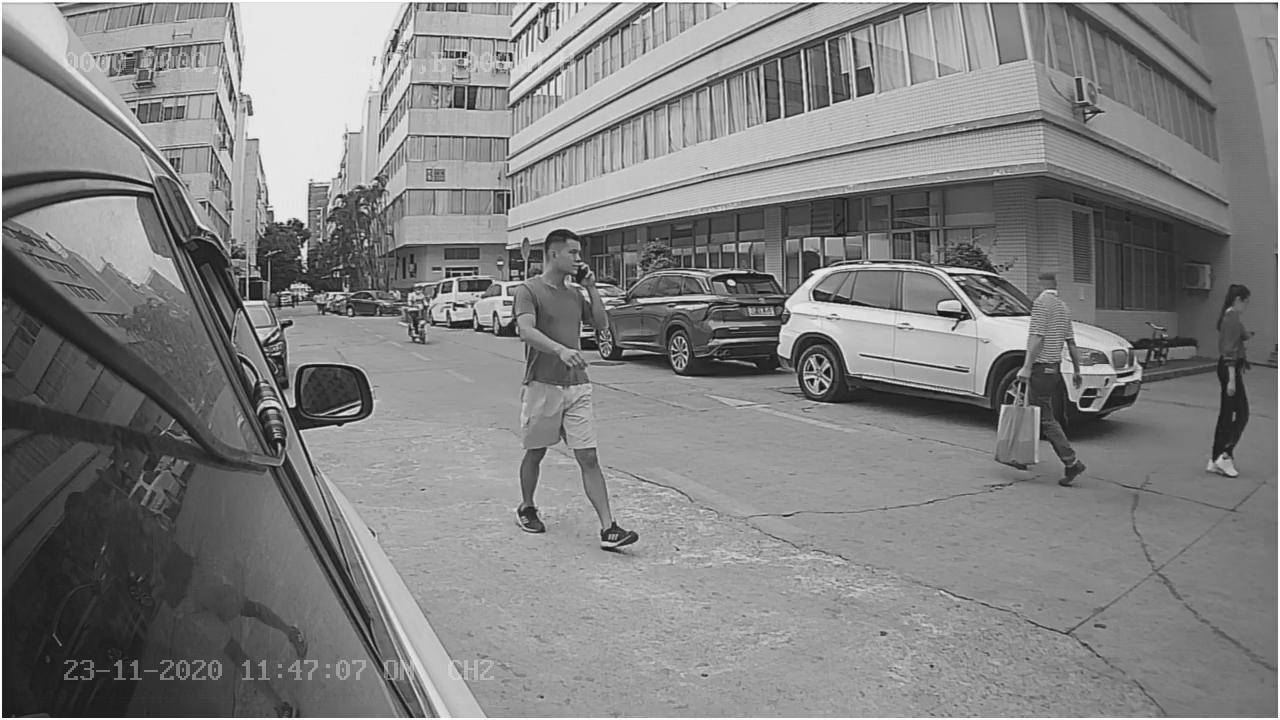person: (508, 215, 639, 555), (993, 250, 1093, 487), (1204, 268, 1271, 486)
